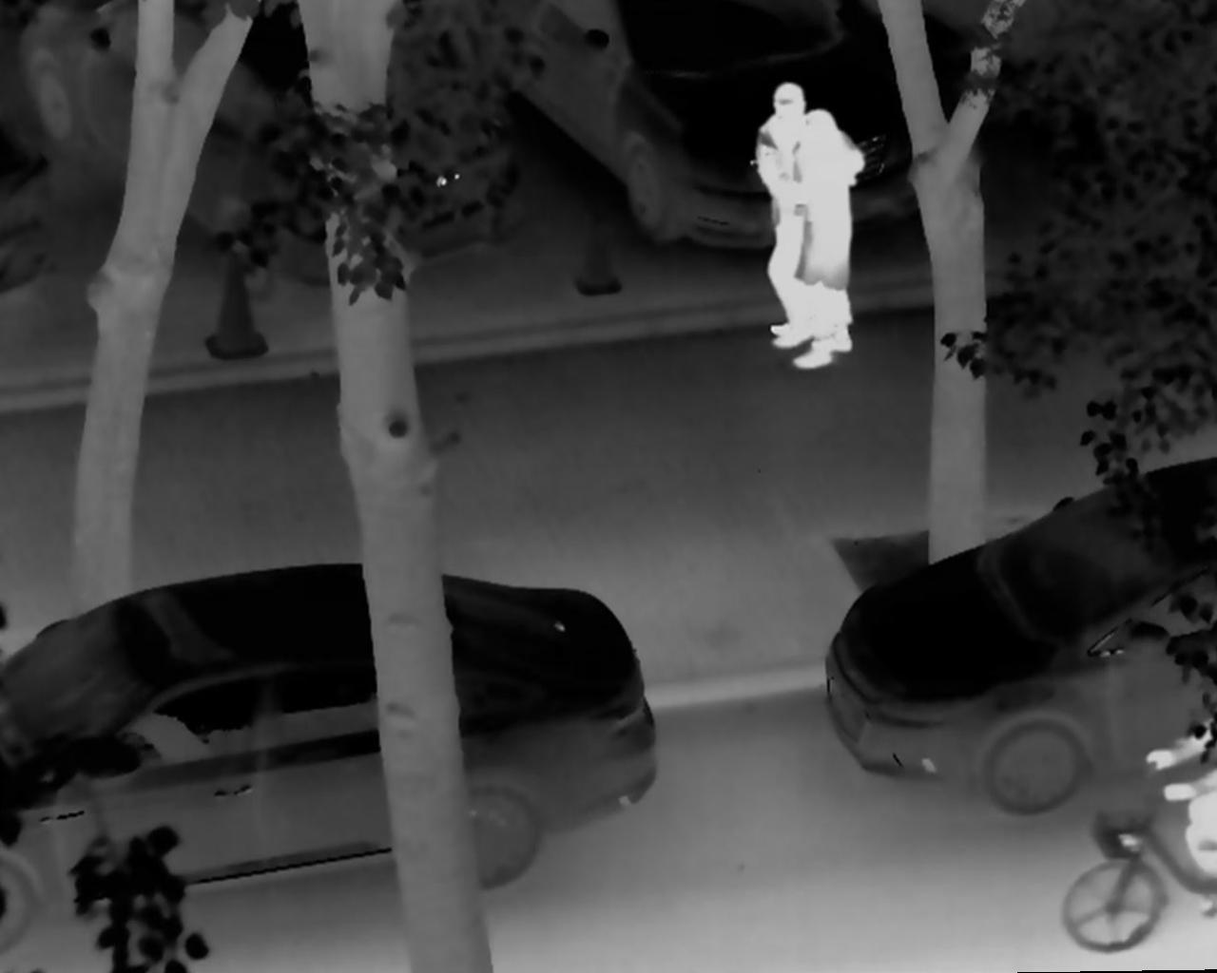person: (738, 80, 861, 344), (784, 109, 865, 377), (1149, 684, 1217, 889)
